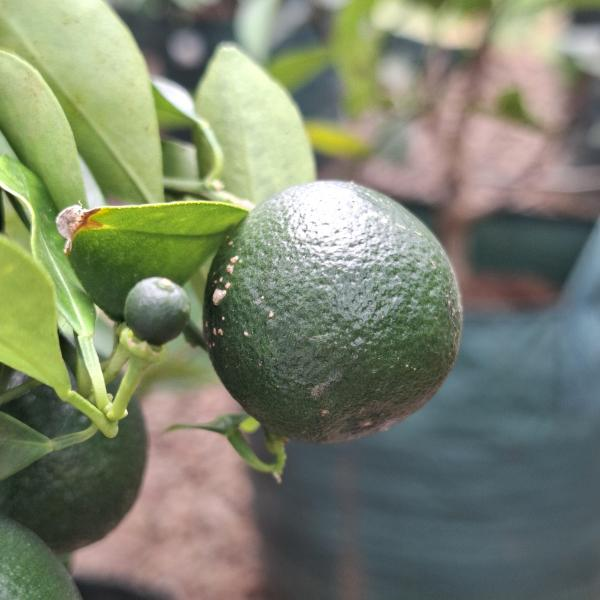Scab: (181, 168, 482, 448)
